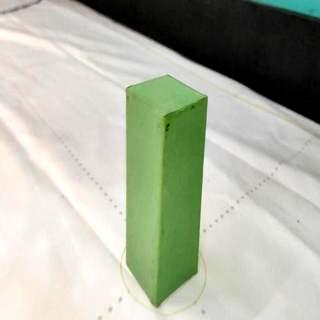greenbox: (124, 73, 209, 310)
